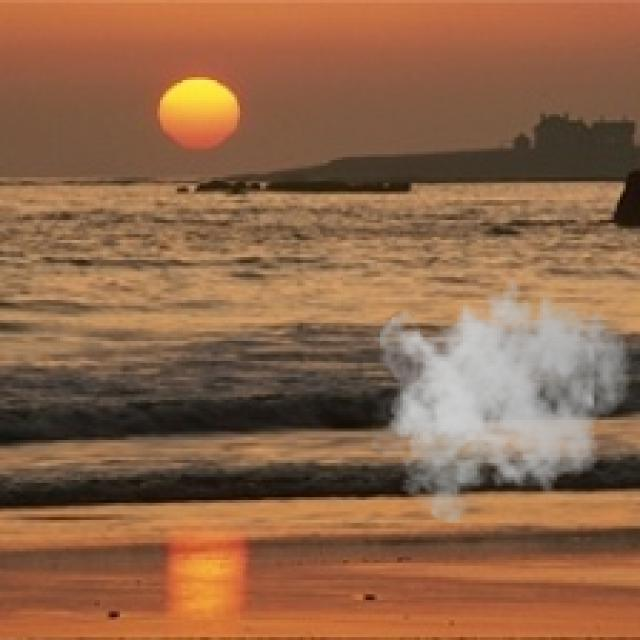smoke: (372, 266, 632, 523)
